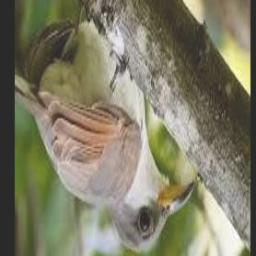Cuckoo: (16, 2, 195, 254)
